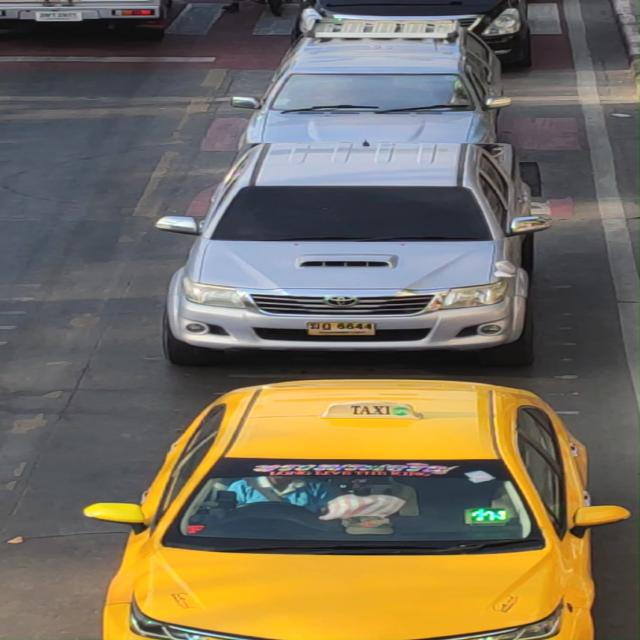car: (44, 373, 640, 639), (150, 133, 557, 353)
